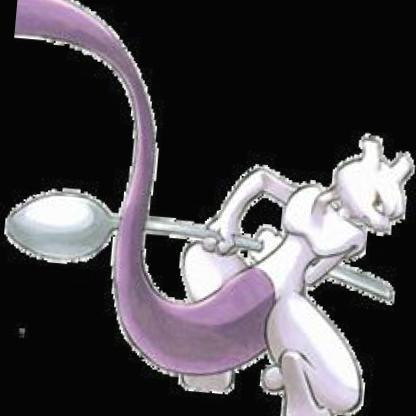Mewtu: (9, 0, 415, 415)
